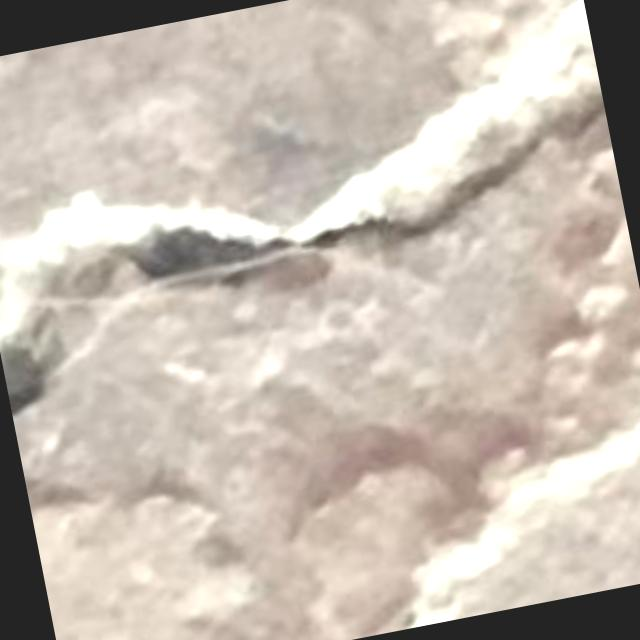crack: (0, 0, 604, 417)
